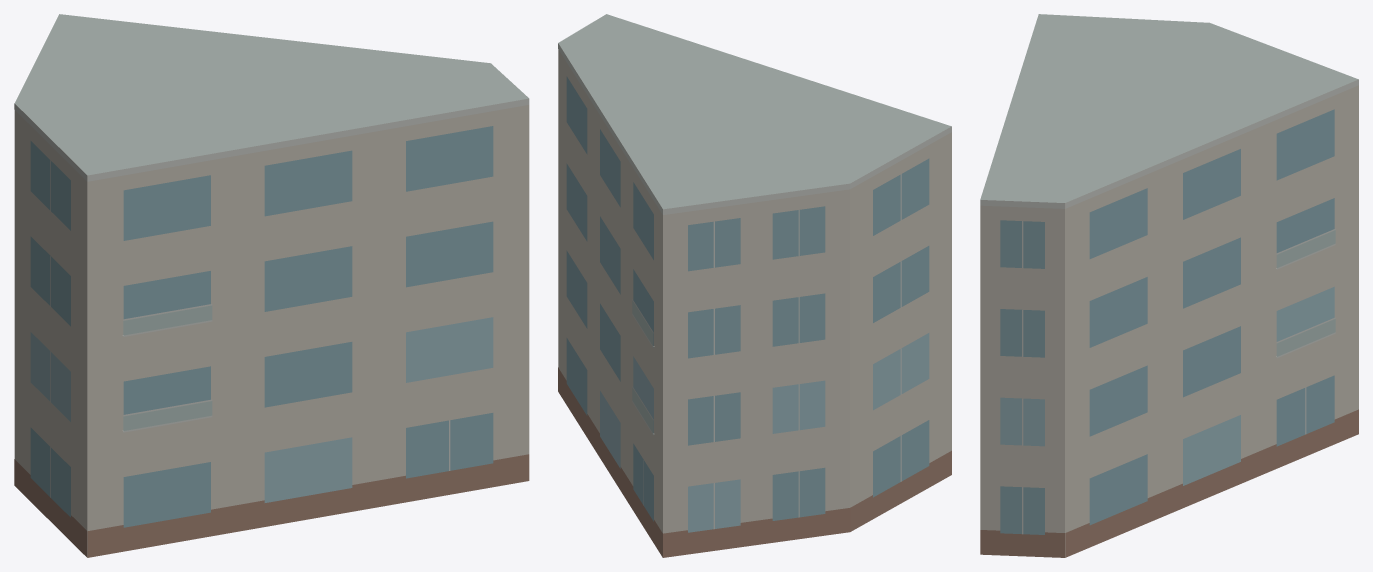
The model's file is survey-upis-32827310.glb.
3 renders of one model, left to right at view 1: azimuth 30°, elevation 25°; view 2: azimuth 150°, elevation 25°; view 3: azimuth 270°, elevation 25°, orthographic. The views are drawn at different scales.
Visible parts, largest first — view 1: survey-upis-32827310.tmp; view 2: survey-upis-32827310.tmp; view 3: survey-upis-32827310.tmp.
Part boxes in pixels (x1=…): survey-upis-32827310.tmp: x1=14, y1=14, x2=529, y2=557; survey-upis-32827310.tmp: x1=558, y1=14, x2=951, y2=557; survey-upis-32827310.tmp: x1=980, y1=14, x2=1358, y2=557.
Bounding box in the file's own units: 16.93 × 14.8 × 14.33.
